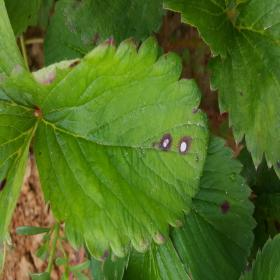Leaf Spot: (33, 33, 210, 262), (205, 0, 279, 178), (170, 135, 258, 279), (0, 101, 40, 273), (61, 0, 164, 51), (1, 59, 83, 107), (3, 0, 54, 38), (239, 233, 279, 279)
